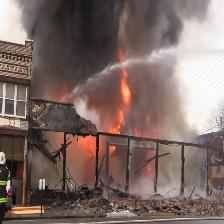fire: (119, 85, 131, 138)
smoke: (31, 0, 187, 85)
